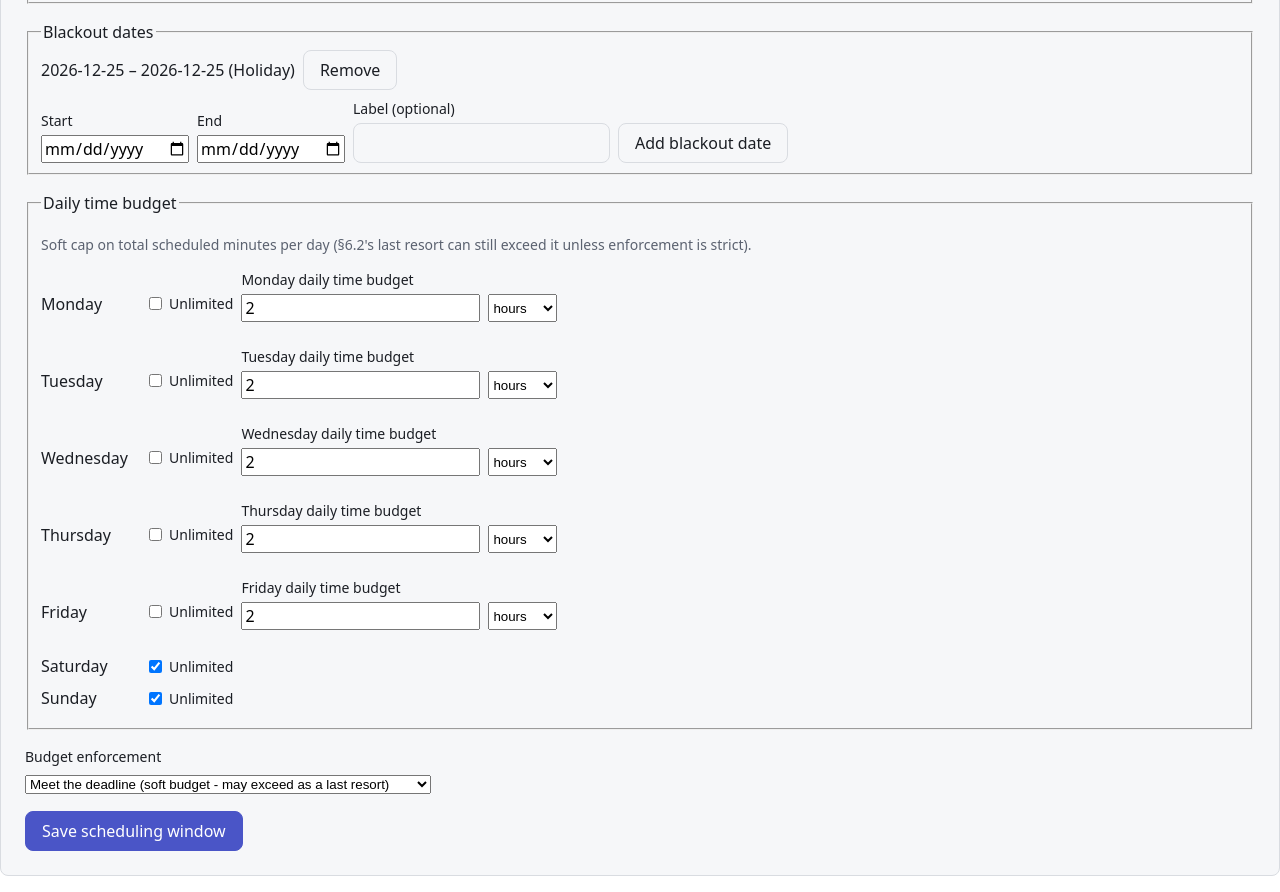
Test: SchedulingWindowSection › saves the full active-hours/budget maps and reports the updated settings
(page scrolled)
Select "Respect the budget (strict cap - becomes unschedulable instead)" in the dropdown labelled "Budget enforcement" at (228, 785), box [25, 775, 431, 794]
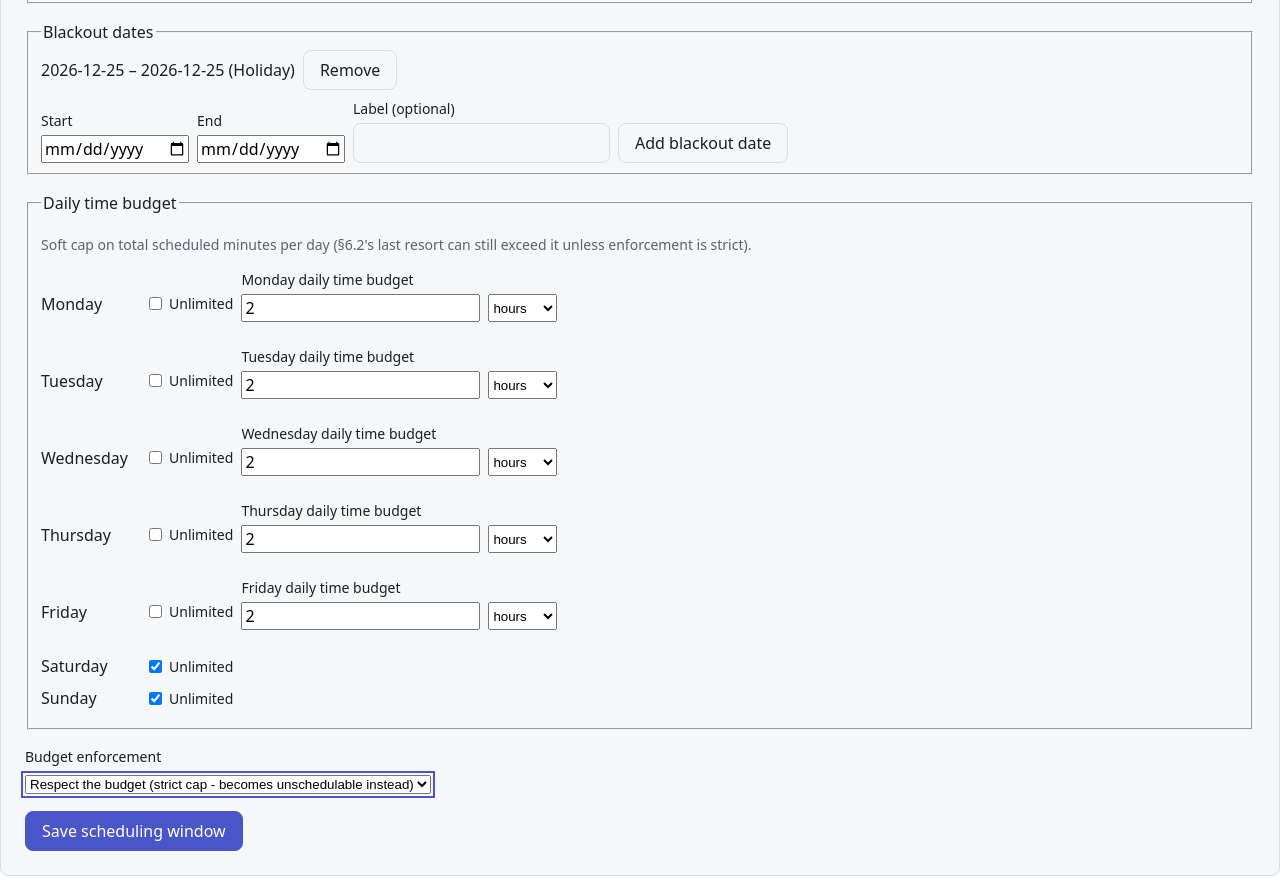
Click the button "Save scheduling window" at (134, 831), box [25, 811, 243, 851]
(page scrolled)
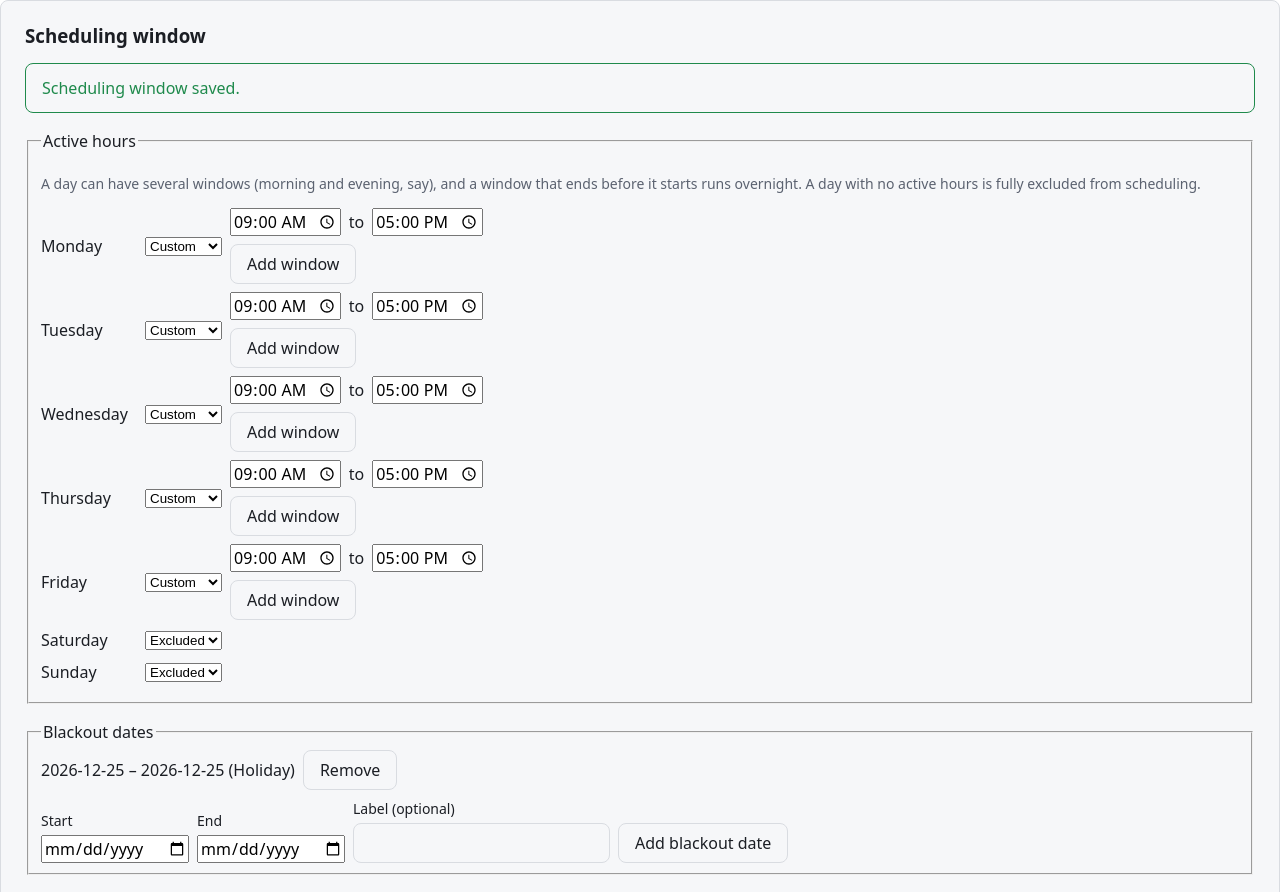
Check: the text "Scheduling window saved." is shown, box [25, 64, 1255, 114]
